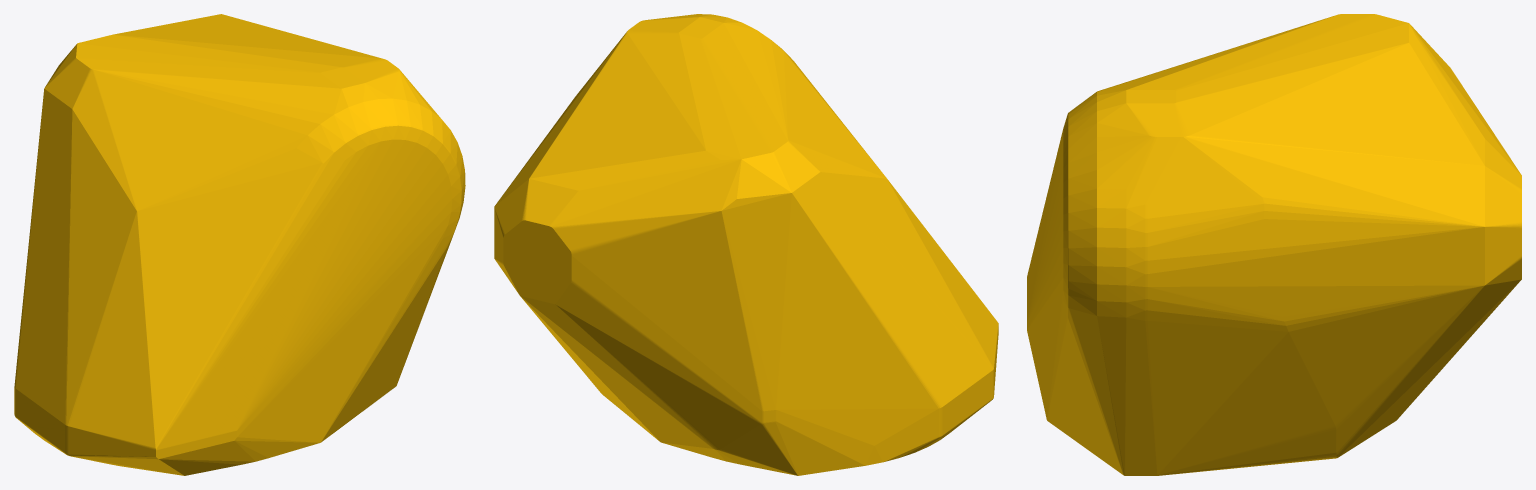
3 views of the same model, side by side, from view 1: azimuth 30°, elevation 25°; view 2: azimuth 150°, elevation 25°; view 3: azimuth 270°, elevation 25° (orthographic). The views are drawn at different scales.
Parts seen in each view (by area): view 1: Link 1.001; view 2: Link 1.001; view 3: Link 1.001.
Part boxes in pixels (<box>): Link 1.001: <box>14,14,465,475</box>; Link 1.001: <box>494,14,998,475</box>; Link 1.001: <box>1027,14,1521,475</box>.
Bounding box in the file's own units: 0.4279 × 0.4146 × 0.3344.
